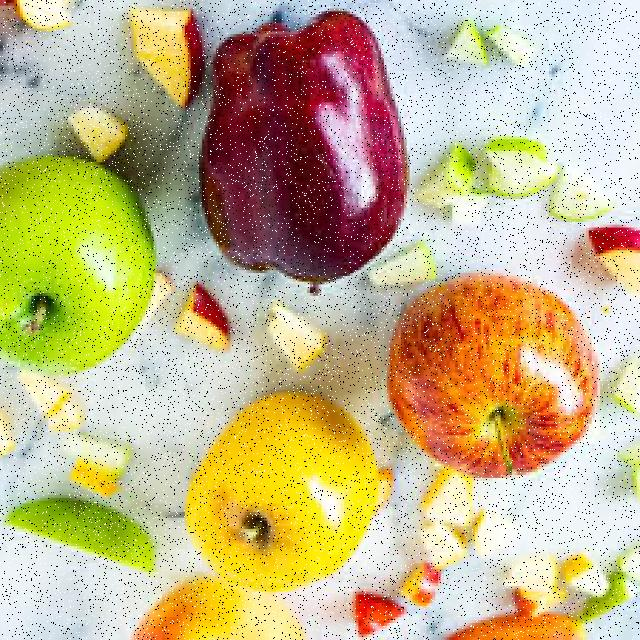Apple: (201, 18, 410, 278), (398, 274, 602, 472), (189, 387, 376, 586), (0, 157, 151, 370), (8, 491, 160, 574), (132, 7, 203, 122), (544, 161, 615, 232), (488, 142, 559, 202), (259, 307, 330, 367), (370, 247, 446, 296), (178, 286, 235, 350), (432, 138, 478, 214), (592, 228, 640, 300), (423, 464, 474, 526), (588, 567, 636, 622), (420, 524, 467, 573), (488, 24, 542, 66), (512, 583, 568, 620), (70, 434, 134, 466), (66, 462, 122, 497), (447, 24, 492, 66), (358, 596, 404, 636), (612, 362, 640, 421), (402, 566, 442, 606), (620, 449, 640, 507)
